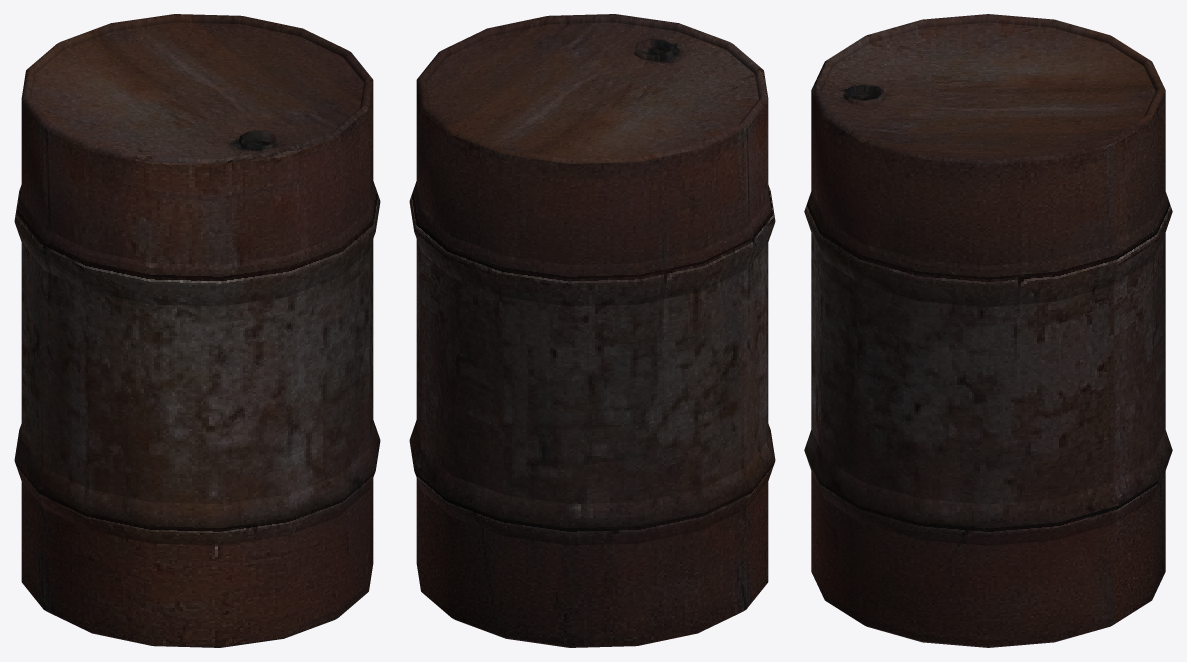
Rendered from metal_barrel_4.glb.
3 renders of one model, left to right at view 1: azimuth 30°, elevation 25°; view 2: azimuth 150°, elevation 25°; view 3: azimuth 270°, elevation 25°, orthographic.
Visible parts, largest first — view 1: metal_barrel_4; view 2: metal_barrel_4; view 3: metal_barrel_4.
Part boxes in pixels (x1,y1,x2,y2): metal_barrel_4: (14,14,380,647); metal_barrel_4: (409,14,775,647); metal_barrel_4: (804,14,1172,647).
Size of the model in its own units: 0.7488 by 1.09 by 0.7488.
Materials: 1 (1 with a texture image).
